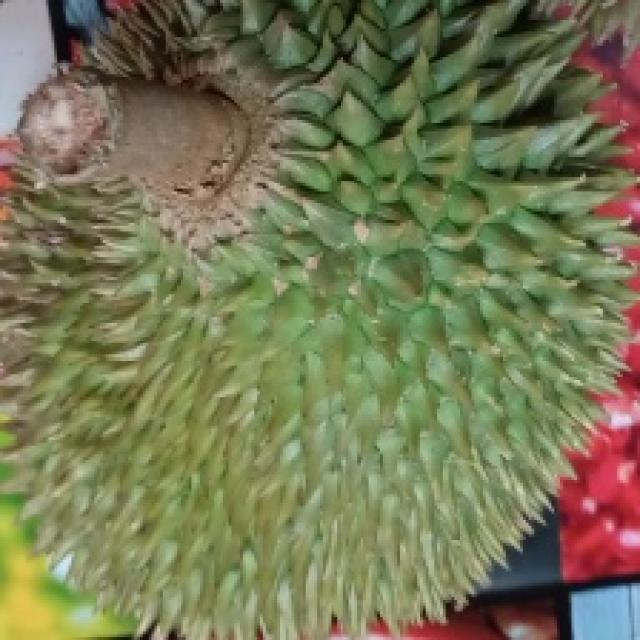d24: (12, 42, 597, 577)
